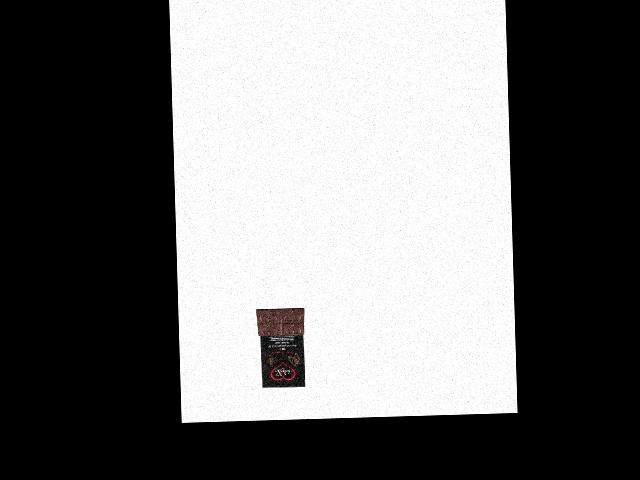chocolate: (252, 304, 308, 388)
